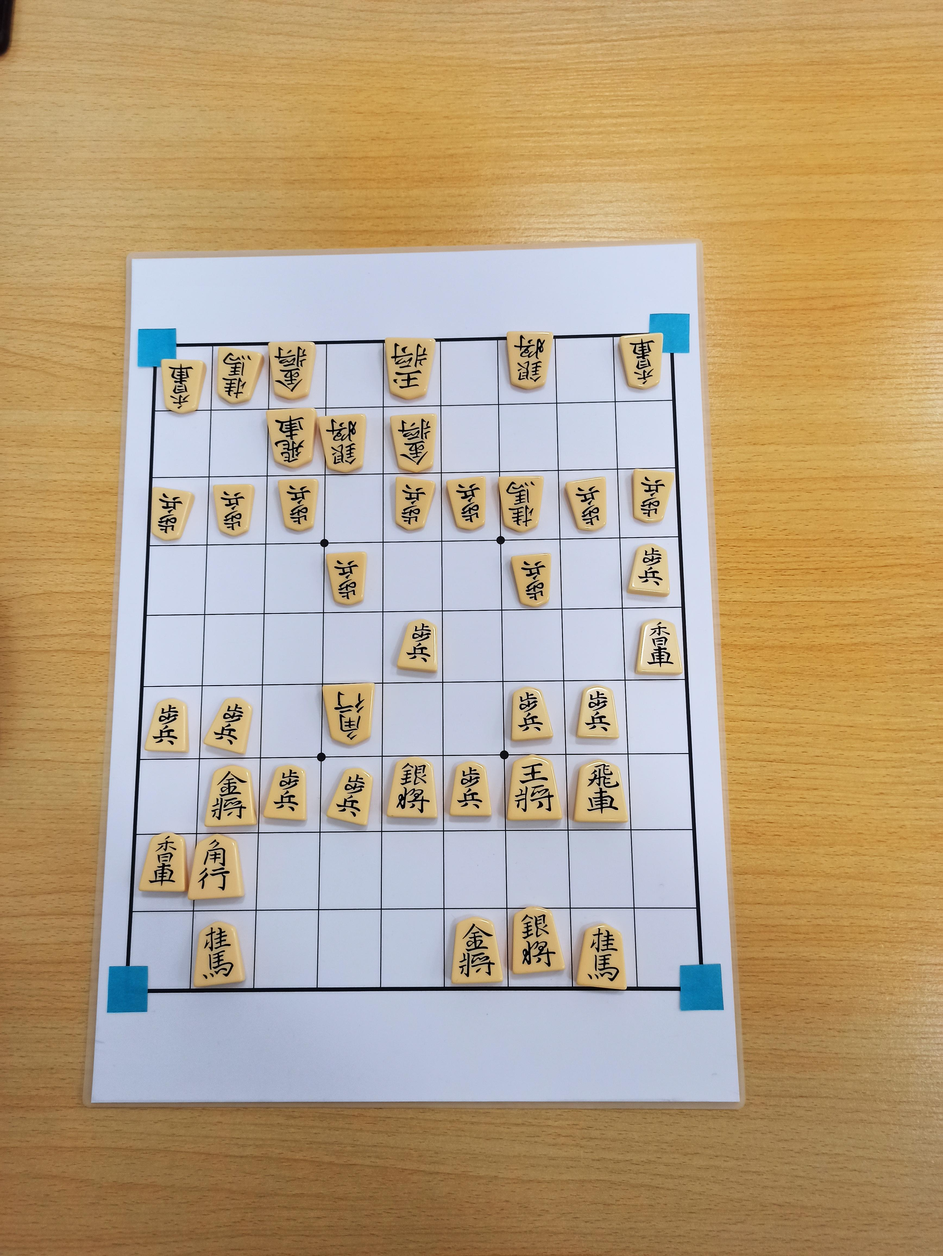board: (126, 335, 702, 991)
